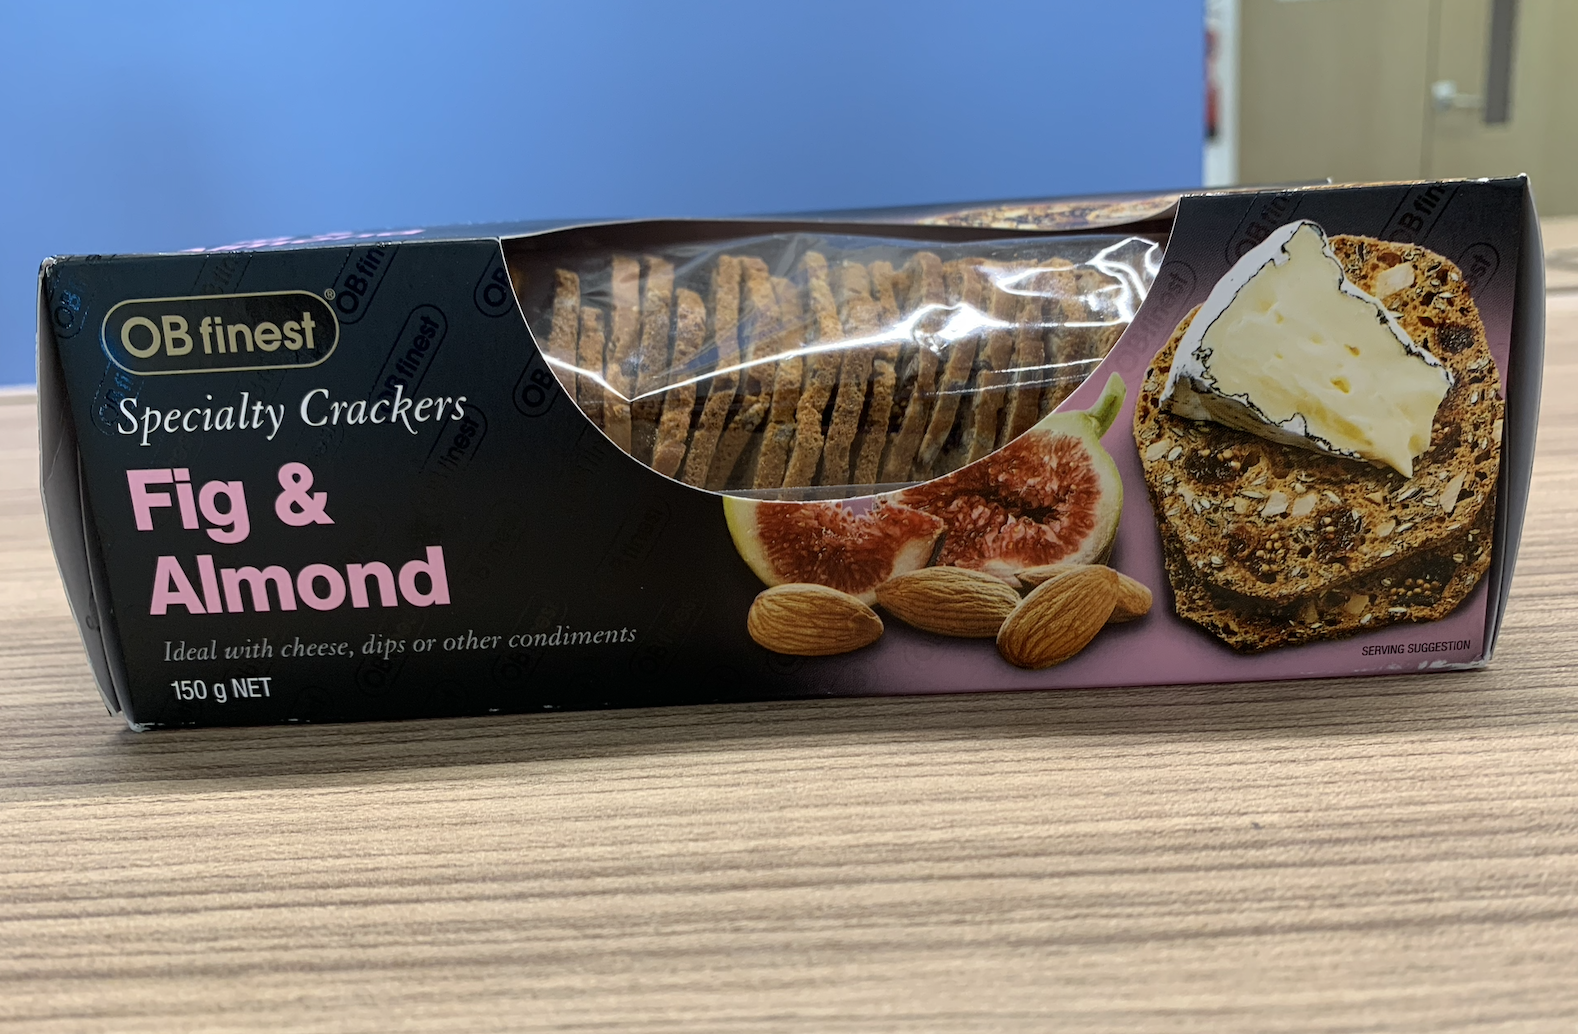crackers_150g: (108, 262, 1474, 709)
